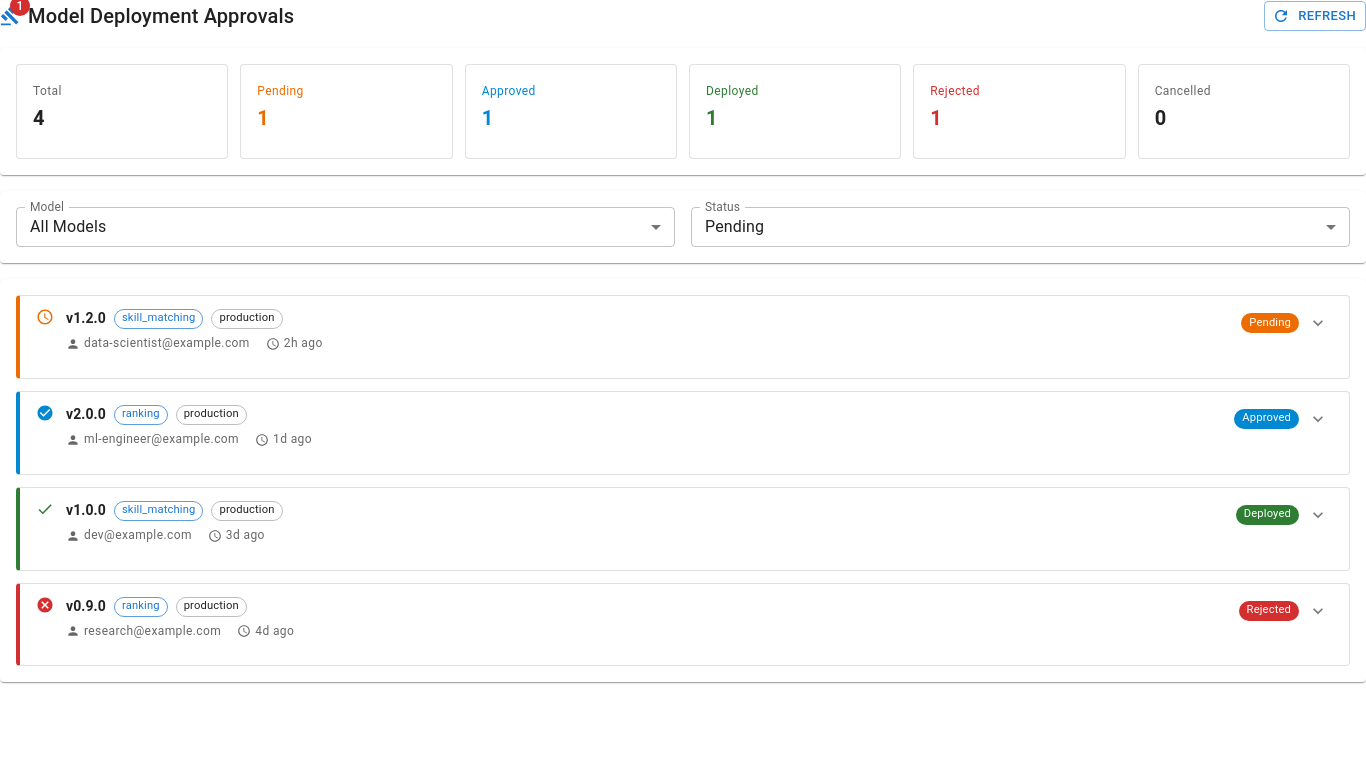
Scenario: ModelApprovalPanel › Approve Action › closes dialog when cancel is clicked
This screenshot has width=1366, height=768.
Expected: the heading "v1.2.0" is shown, [66, 308, 106, 330]
Click the button without text in the row of "2h ago".
click(1318, 323)  # box [1303, 308, 1333, 338]
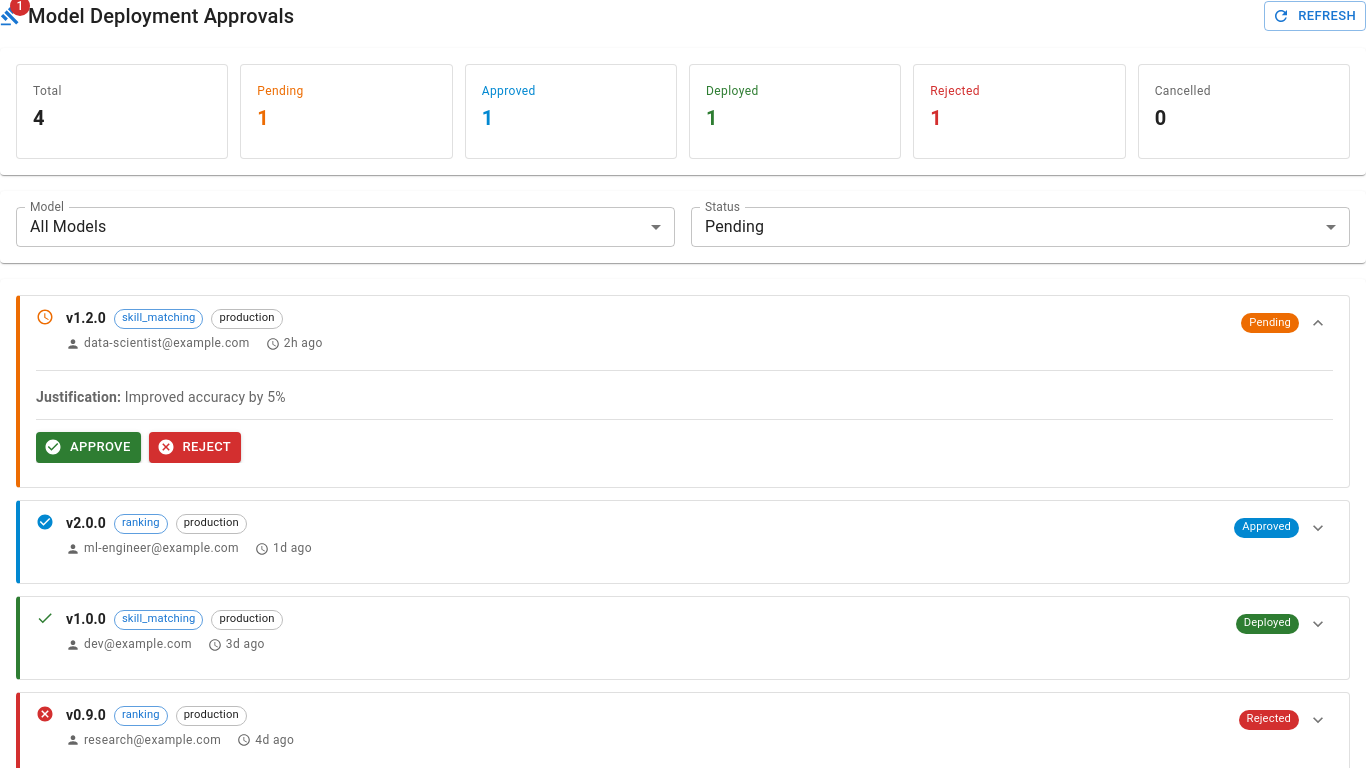
Expected: the button "Approve" is shown
Click the button "Approve".
click(88, 447)  # box [36, 432, 141, 463]
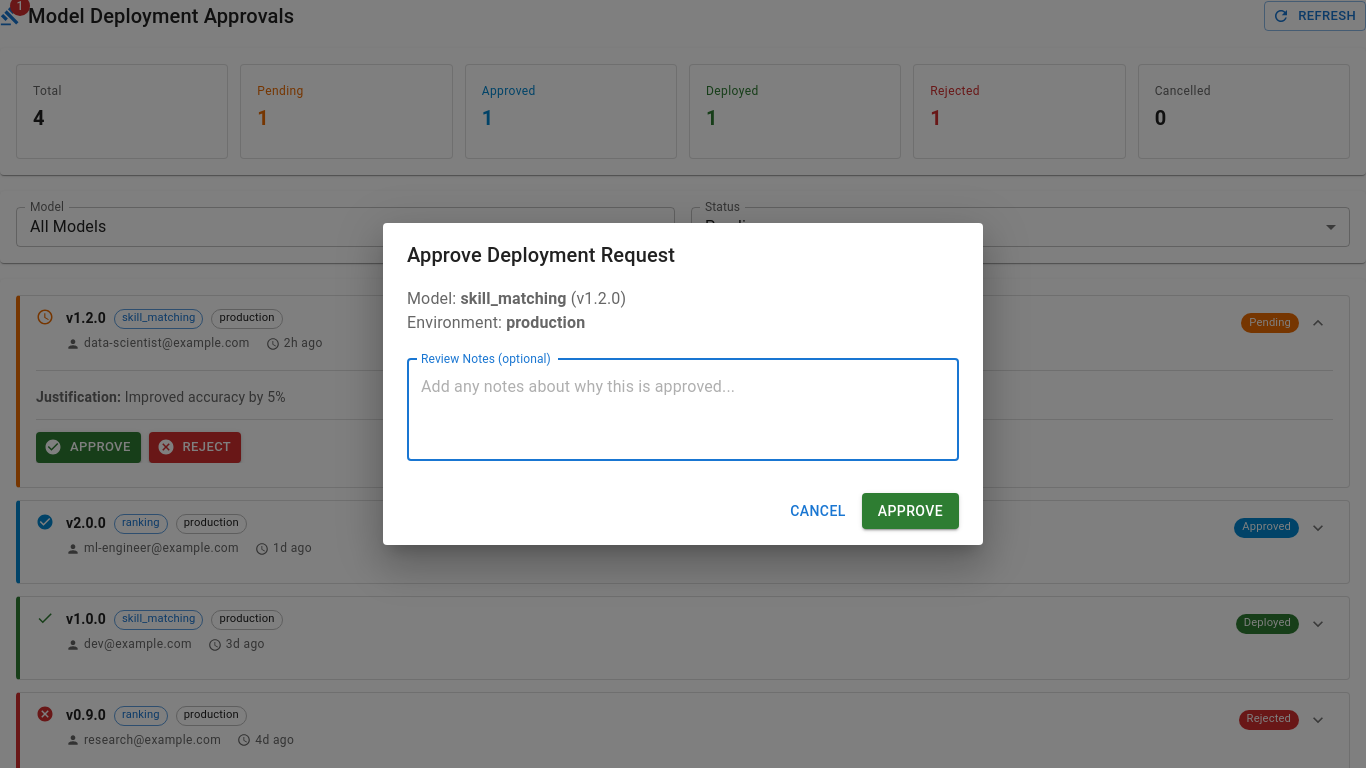
Expected: the heading "Approve Deployment Request" is shown, [407, 243, 675, 267]
# Click cancel
Click the button "Cancel".
click(818, 511)  # box [782, 493, 854, 529]
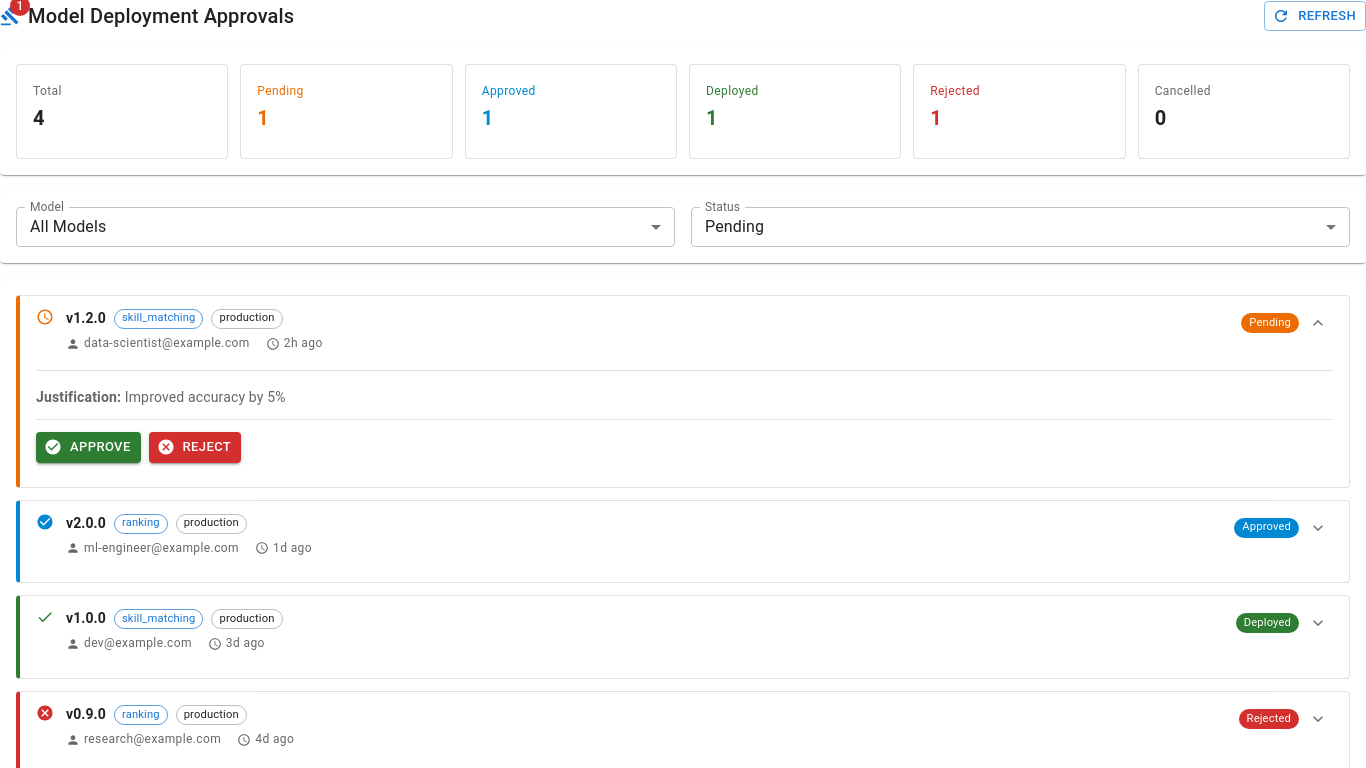
Expected: the heading "Approve Deployment Request" is gone
